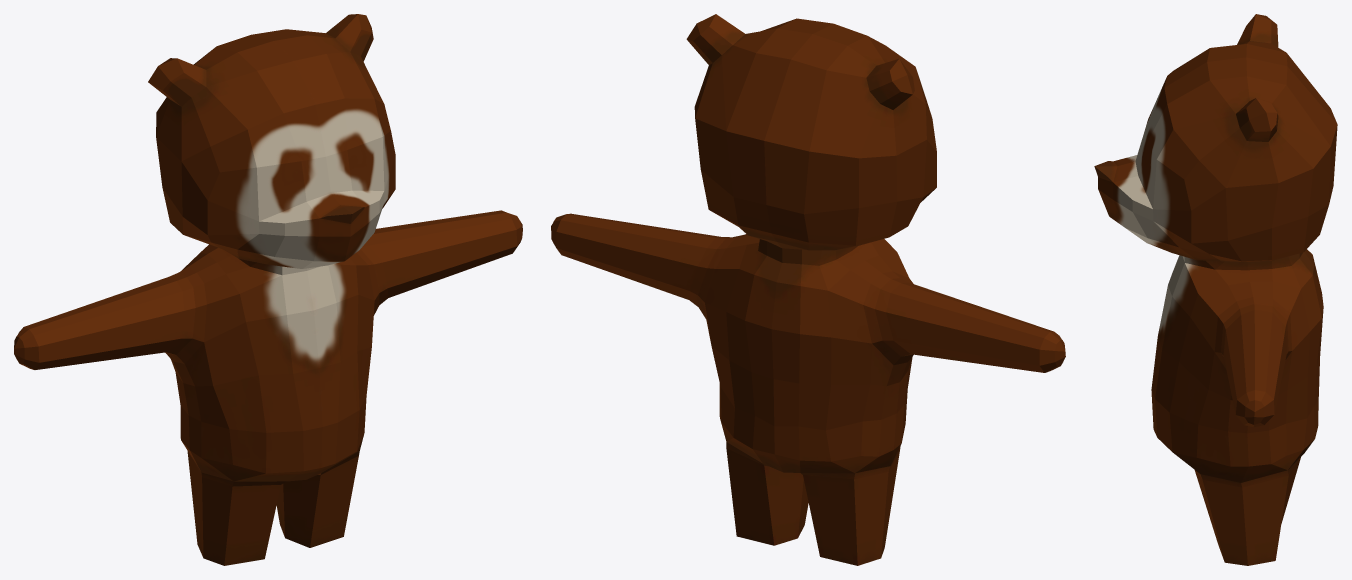
Rendered from oso2.glb.
3 renders of one model, left to right at view 1: azimuth 30°, elevation 25°; view 2: azimuth 150°, elevation 25°; view 3: azimuth 270°, elevation 25°, orthographic. The views are drawn at different scales.
Bounding box in the file's own units: 57.8 × 54.63 × 25.14.
Materials: 1 (1 with a texture image).
